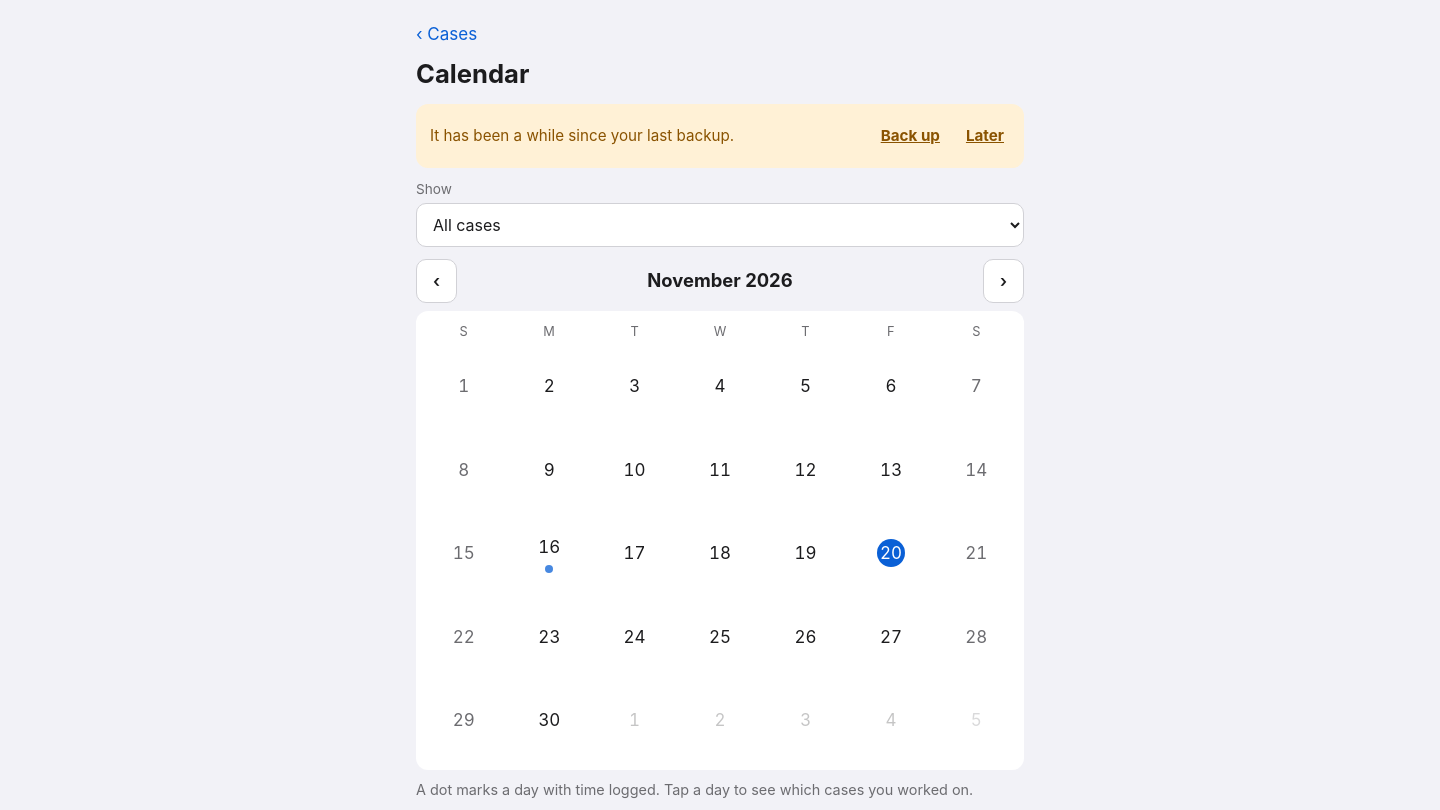
Scenario: the calendar marks days with time and lists the cases for a tapped day
Expected: the heading "November 2026" is shown, [647, 269, 793, 291]
Click the button named "Mon, Nov 16, 2026, 1h 15m 0s logged" at (549, 553), box [507, 512, 591, 595]
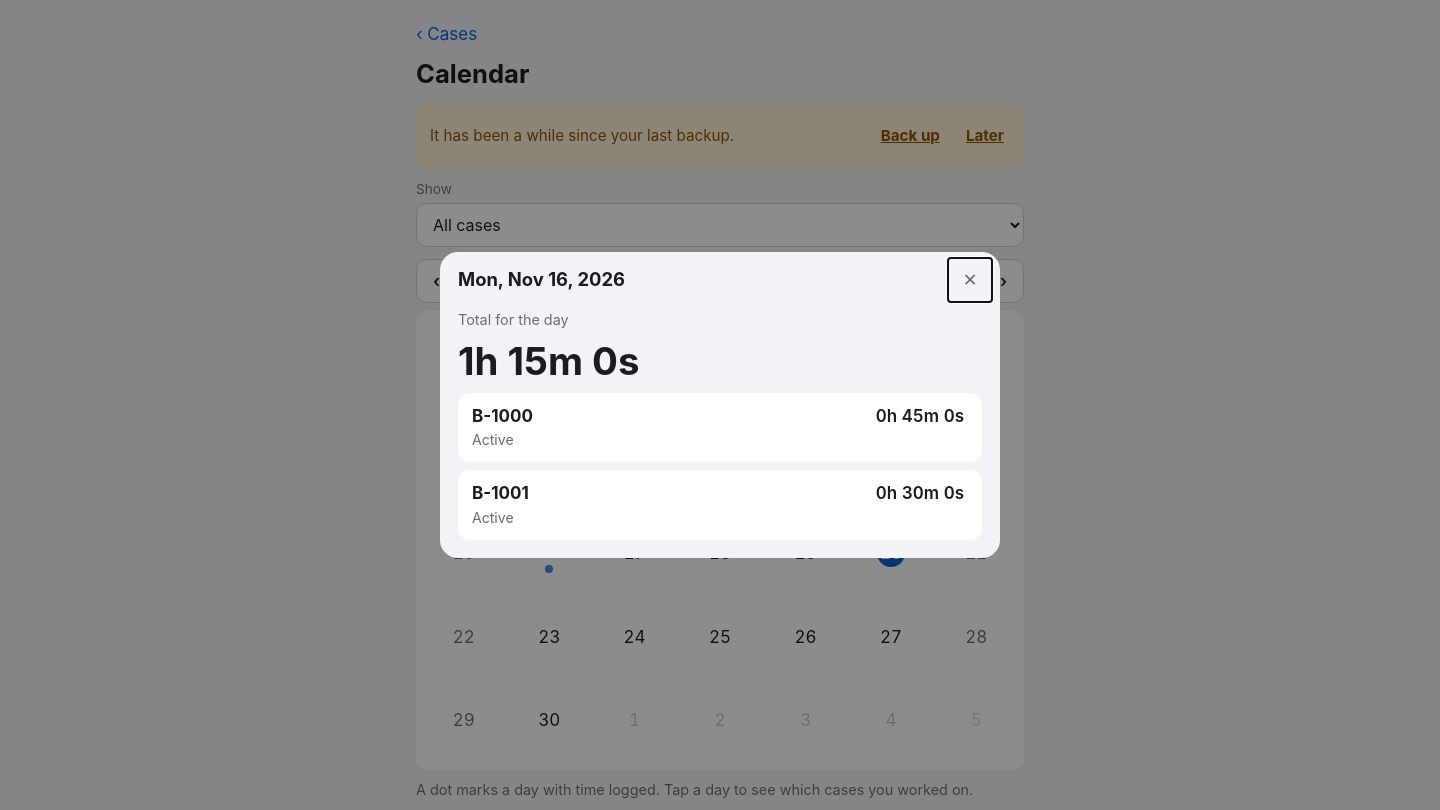
Result: the text "1h 15m 0s" is shown at [458, 338, 640, 384]
Result: the text "B-1000" is shown 2 times at [472, 406, 533, 426]; [472, 483, 529, 503]
